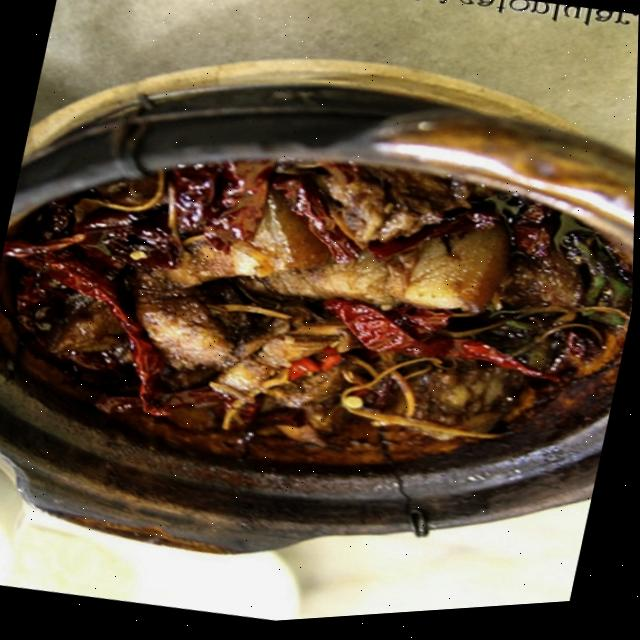汤锅炖物: (0, 57, 638, 582)
